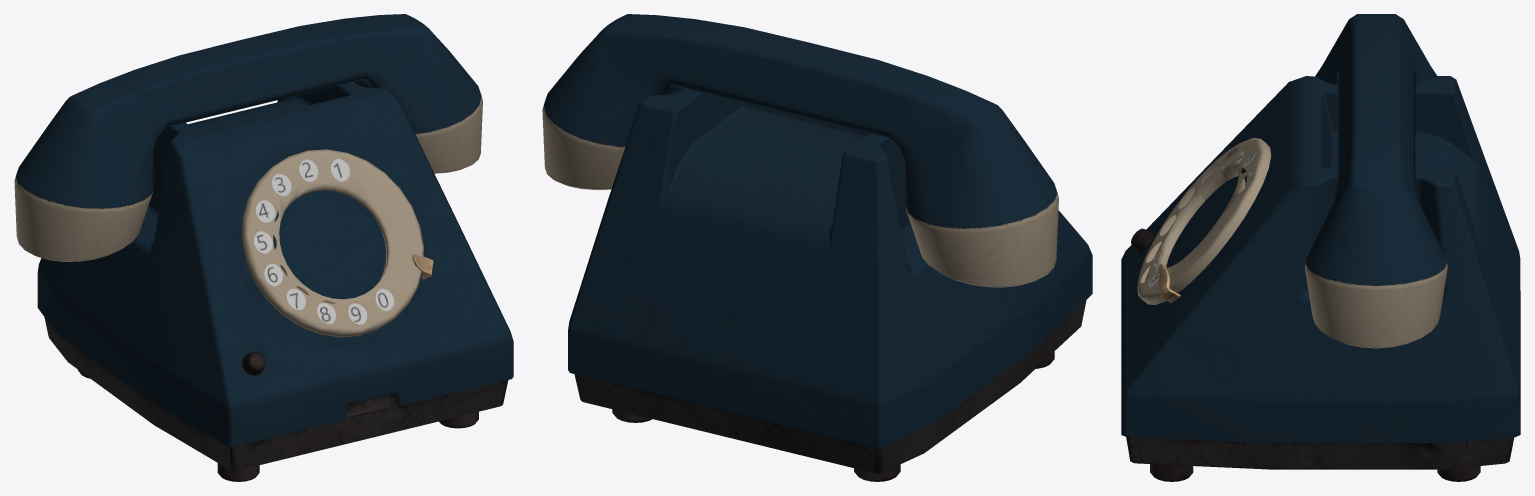
Rendered from telephone(1).fbx.
3 renders of one model, left to right at view 1: azimuth 30°, elevation 25°; view 2: azimuth 150°, elevation 25°; view 3: azimuth 270°, elevation 25°, orthographic. The views are drawn at different scales.
Parts seen in each view (by area): view 1: SM_OldPhone_Full, SM_OldPhone_Full.003, SM_OldPhone_Full.001, Circle.005; view 2: SM_OldPhone_Full, SM_OldPhone_Full.003; view 3: SM_OldPhone_Full, SM_OldPhone_Full.003, SM_OldPhone_Full.001, Circle.005.
Part boxes in pixels (x1,y1,x2,y2): SM_OldPhone_Full: (37, 81, 513, 481); SM_OldPhone_Full.003: (14, 14, 482, 261); SM_OldPhone_Full.001: (241, 149, 423, 337); Circle.005: (253, 158, 398, 324); SM_OldPhone_Full: (568, 88, 1092, 481); SM_OldPhone_Full.003: (542, 14, 1058, 287); SM_OldPhone_Full: (1121, 76, 1520, 481); SM_OldPhone_Full.003: (1305, 14, 1447, 348); SM_OldPhone_Full.001: (1137, 138, 1271, 304); Circle.005: (1145, 143, 1257, 292).
Bounding box in the file's own units: 93.6 × 65.37 × 70.
